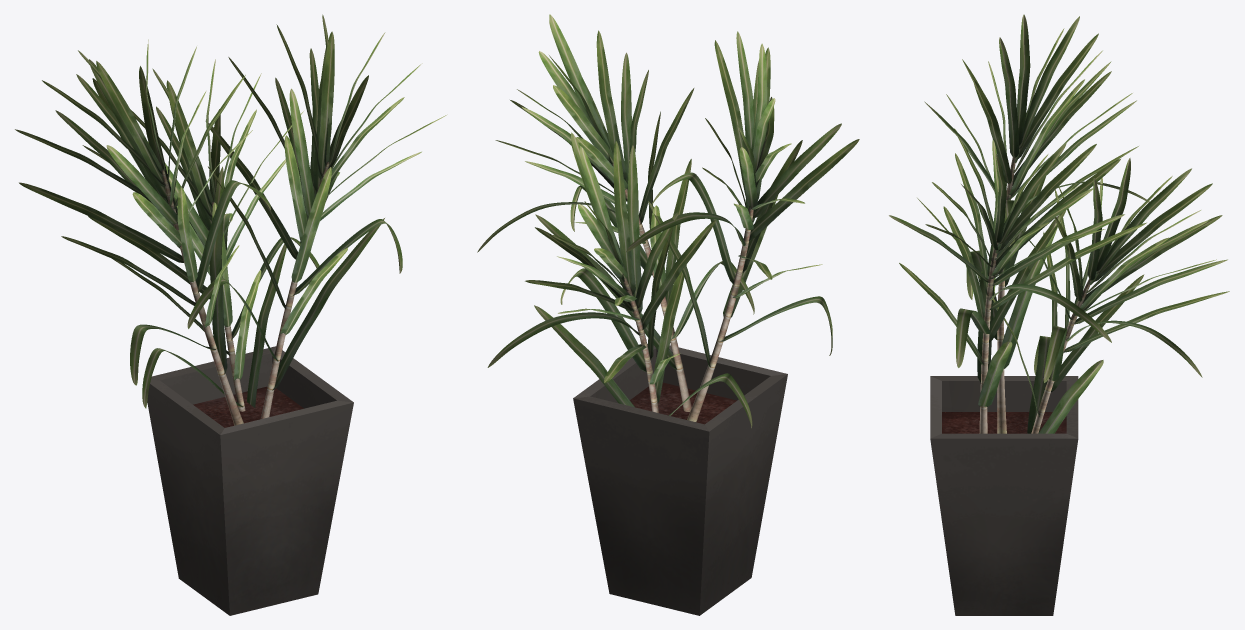
File: Plant.FBX
3 views of the same model, side by side, from view 1: azimuth 30°, elevation 25°; view 2: azimuth 150°, elevation 25°; view 3: azimuth 270°, elevation 25° (orthographic). The views are drawn at different scales.
Parts seen in each view (by area): view 1: Box001; view 2: Box001; view 3: Box001.
Boxes of the visible parts, x1,y1,x2,y2 form: Box001: (15,14,447,615); Box001: (477,14,859,615); Box001: (889,14,1229,615).
Size of the model in its own units: 1.26 by 2.01 by 1.16.
